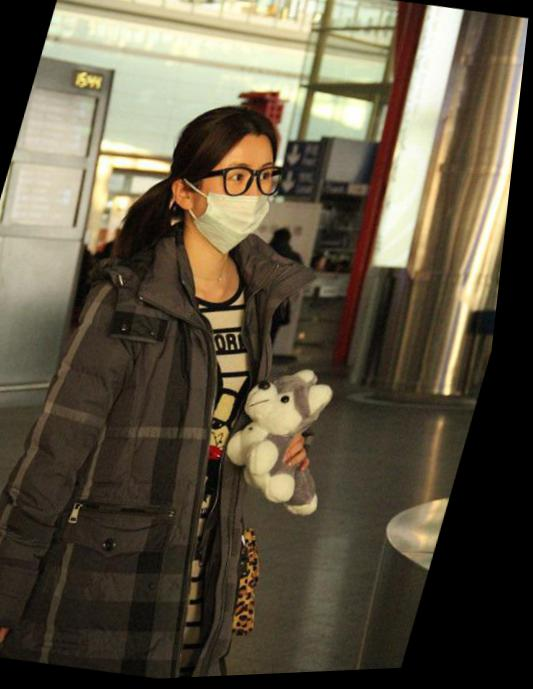WRONG: (195, 146, 287, 252)
